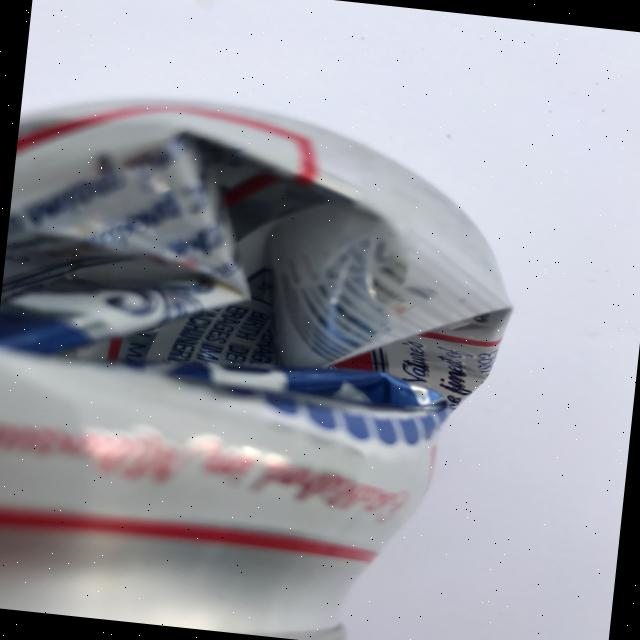metal: (0, 80, 531, 640)
